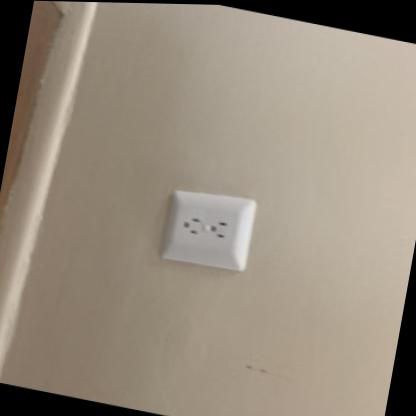OUTLET: (160, 183, 258, 275)
